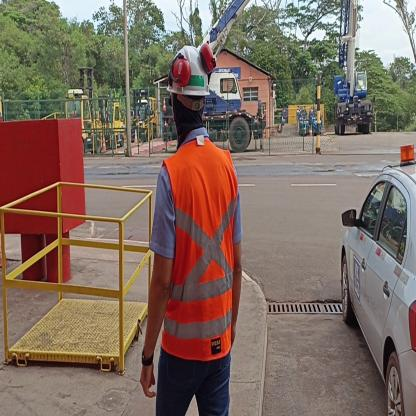Balaclava: (171, 94, 208, 140)
Capacete: (166, 37, 214, 99)
colete: (159, 145, 237, 360)
